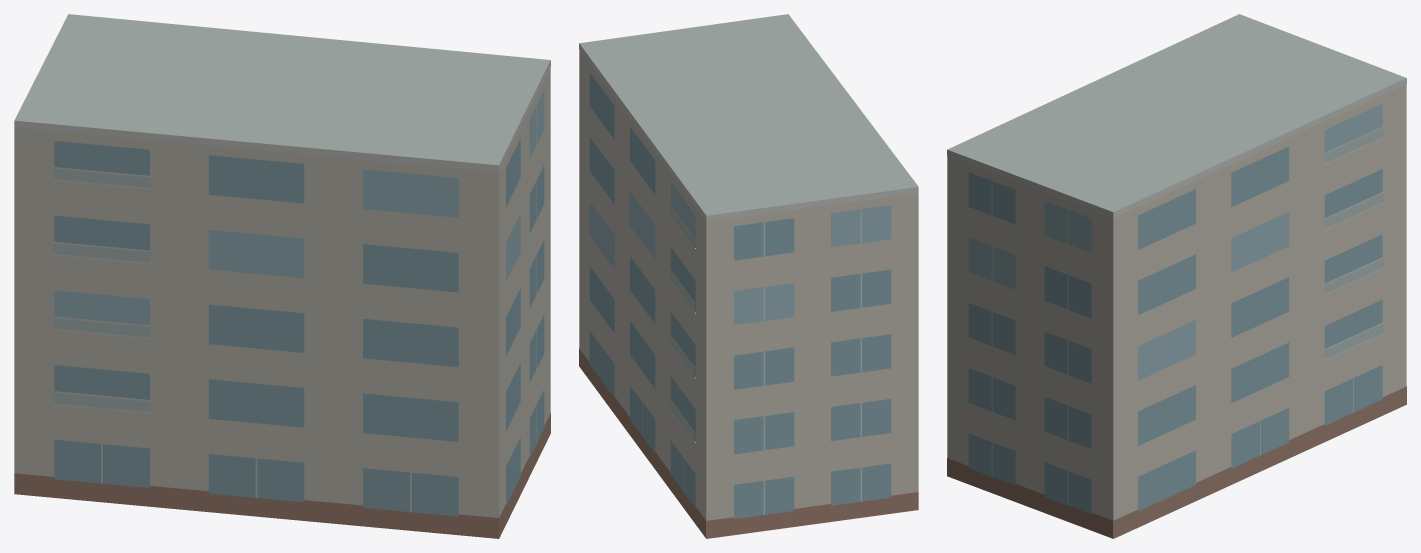
Rendered from survey-upis-32984763.glb.
3 renders of one model, left to right at view 1: azimuth 30°, elevation 25°; view 2: azimuth 150°, elevation 25°; view 3: azimuth 270°, elevation 25°, orthographic. The views are drawn at different scales.
Visible parts, largest first — view 1: survey-upis-32984763.tmp; view 2: survey-upis-32984763.tmp; view 3: survey-upis-32984763.tmp.
Part boxes in pixels (x1,y1,x2,y2): survey-upis-32984763.tmp: [14, 14, 550, 538]; survey-upis-32984763.tmp: [579, 14, 918, 538]; survey-upis-32984763.tmp: [947, 14, 1406, 538].
Bounding box in the file's own units: 16.92 × 13 × 16.58.
